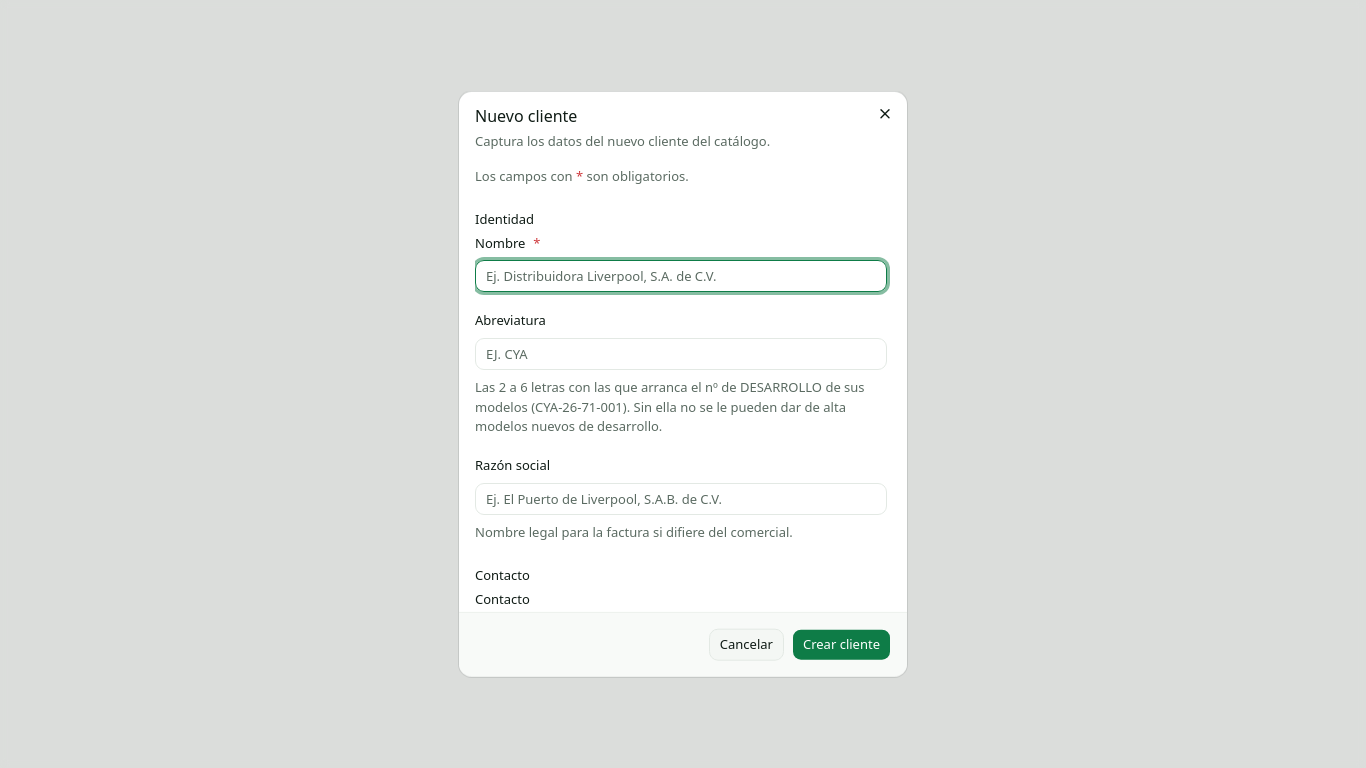
Test: <DialogoCliente> › Enter en el input de departamento lo agrega SIN enviar el formulario
This screenshot has width=1366, height=768.
In the field labelled "Nombre *": (681, 276) [475,260,887,292], type "C&A"
(page scrolled)
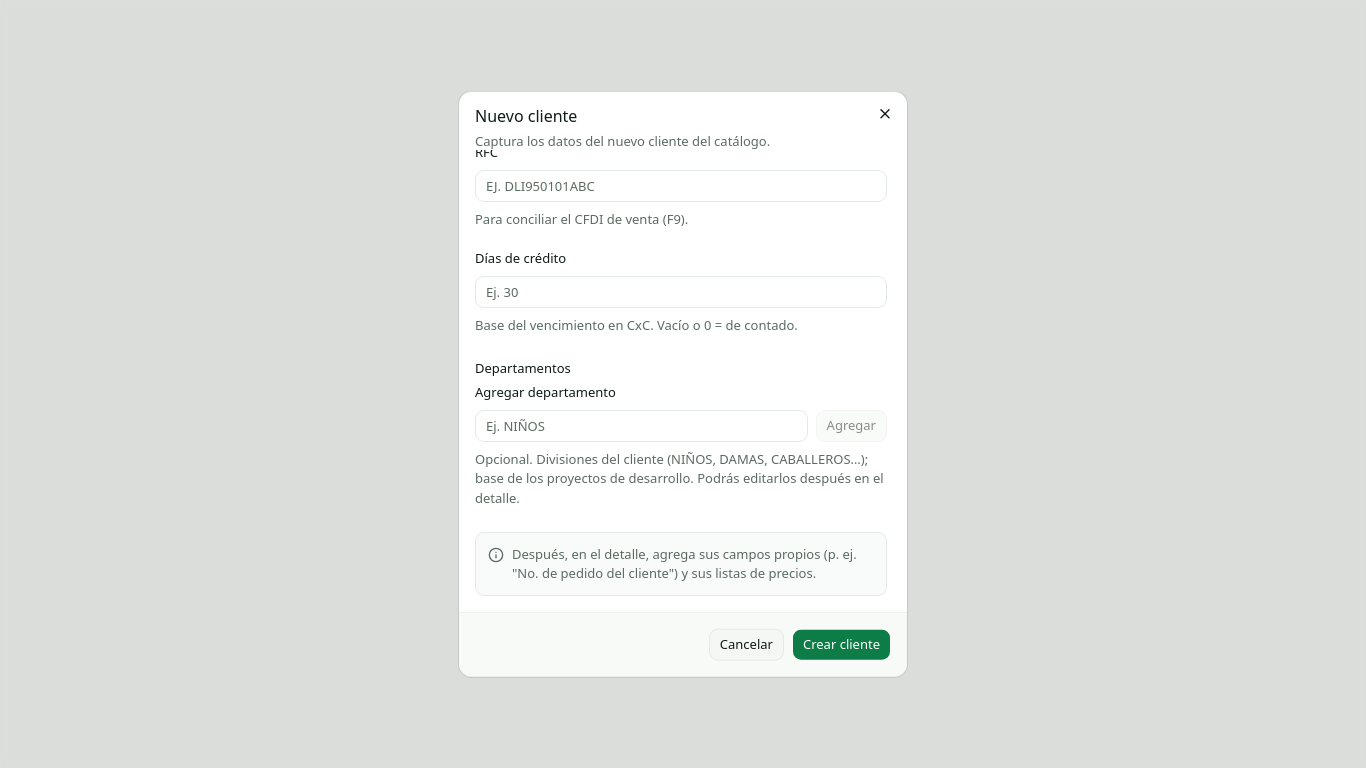
In the field with test id "cliente-departamento-input": (641, 426) [475,410,808,442], type "NIÑOS"
Then press Enter
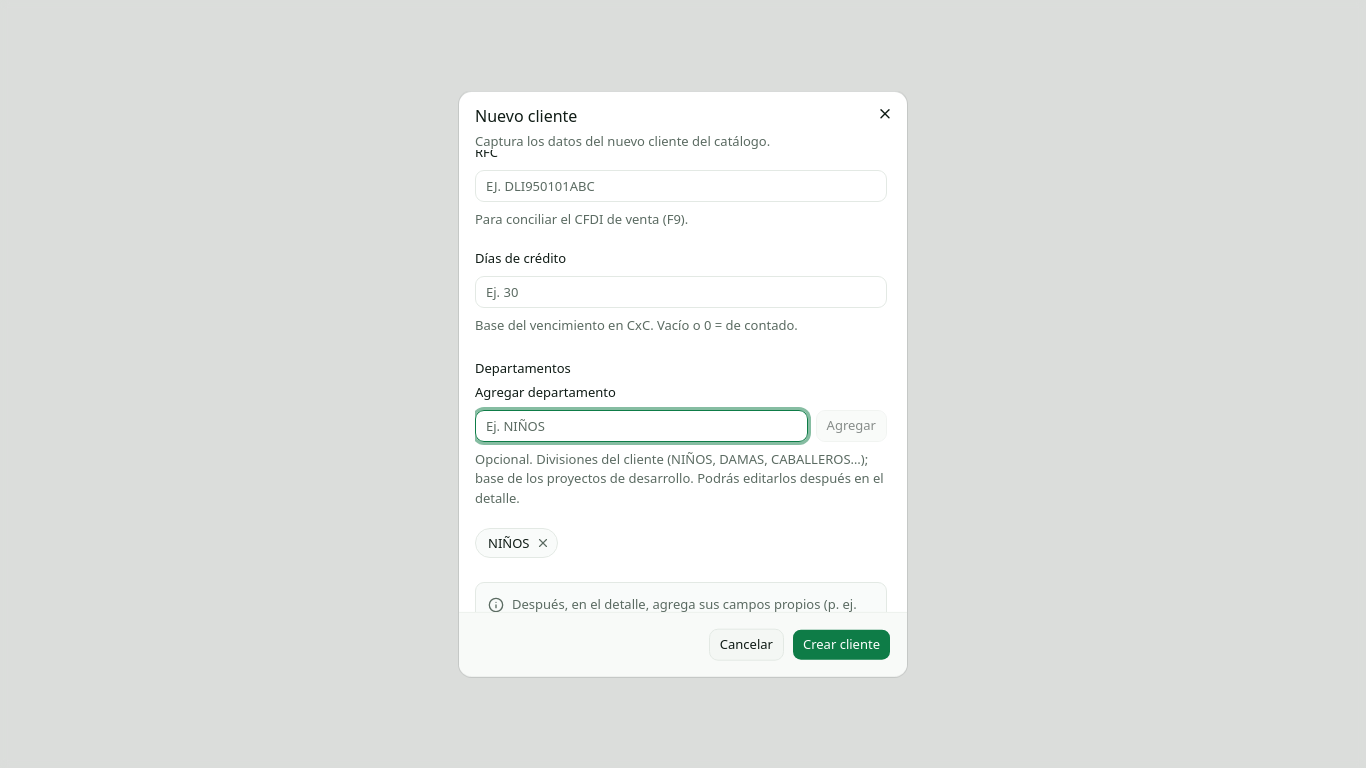
Now the list item with test id "chip-departamento" reads "NIÑOS", box [488,534,530,552]
